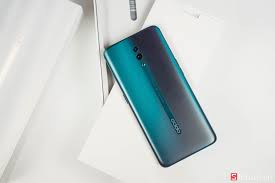oppo: (95, 23, 221, 173)
